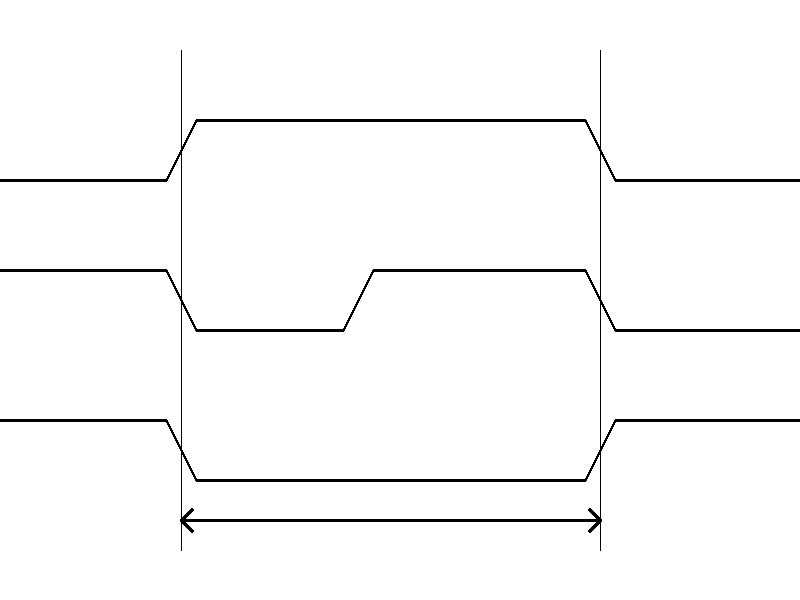double_arrow: (181, 505, 600, 535)
